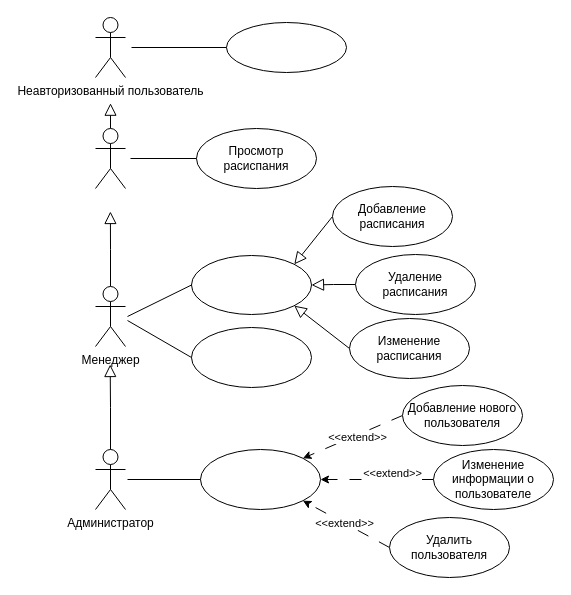
Image size: 571x595. Some labels were removed from this diagram. The box of each missing label's shape, as (x1, y1, x2, y2) in pixels:
Авторизоваться: (226, 22, 346, 72)
Пользователь: (94, 128, 126, 188)
Просмотр информации о пользователях: (200, 448, 320, 510)
Редактирование расписания: (190, 254, 312, 314)
Экспортирование расписания: (190, 326, 312, 388)
